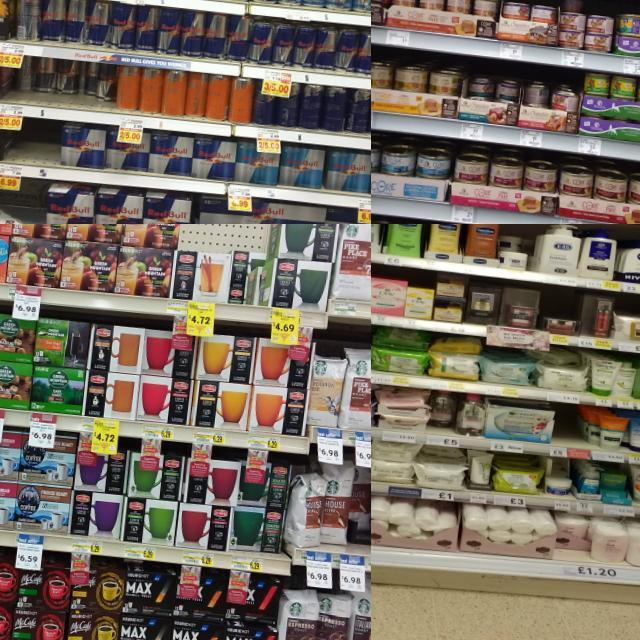empty: (4, 118, 58, 178), (550, 403, 578, 458)
